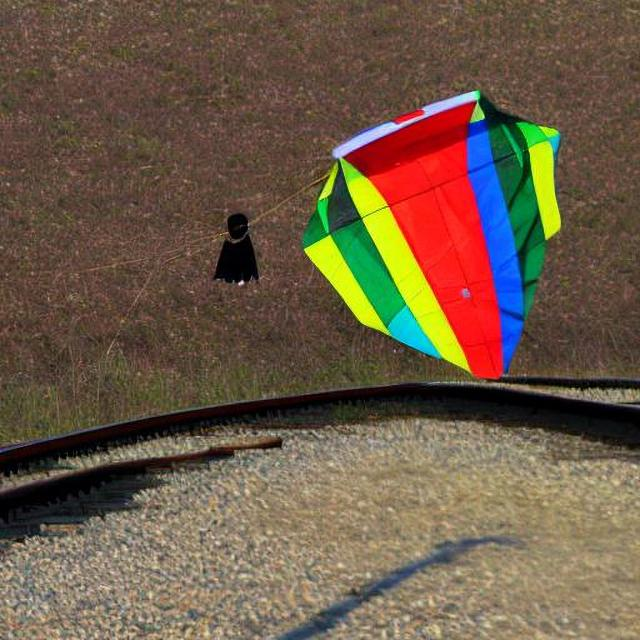floating object: (305, 95, 568, 379)
